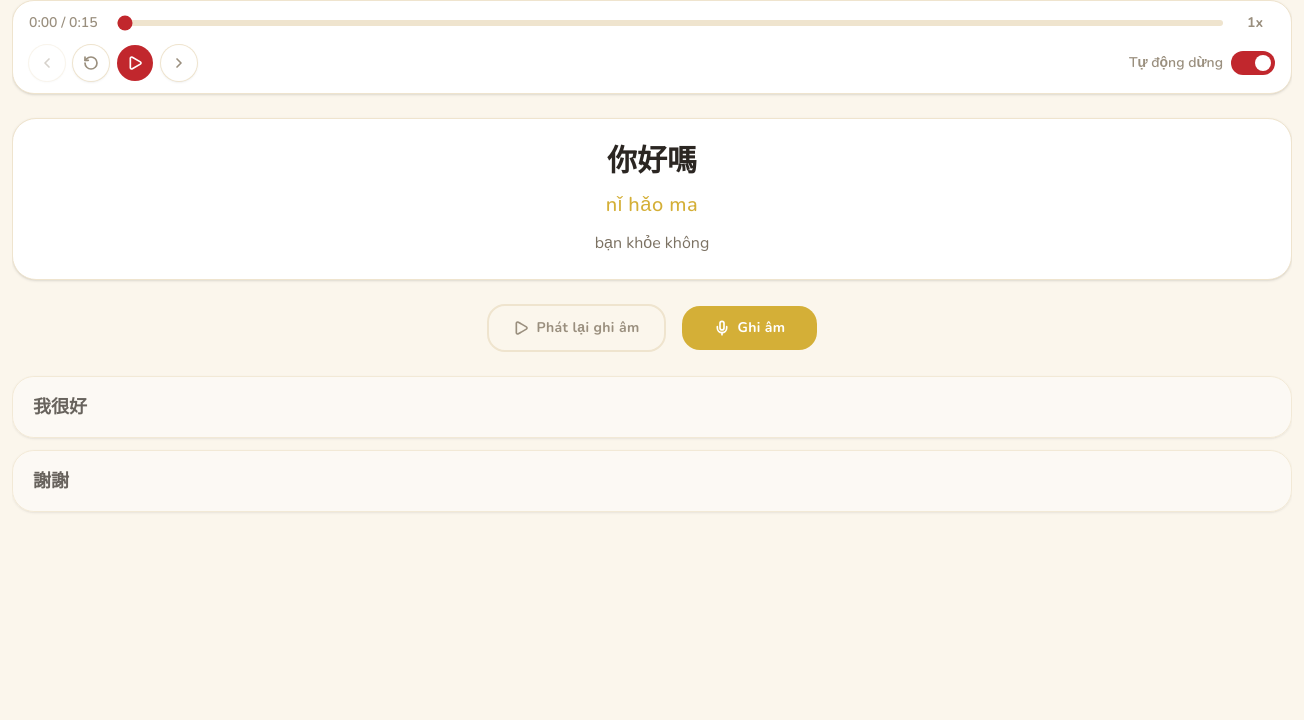
ShadowingScreen › goes back to the previous line and plays it when "Câu trước" is clicked
Step 1. Click the button named "Câu sau" → point(179, 63), box x1=161 y1=45 x2=197 y2=81
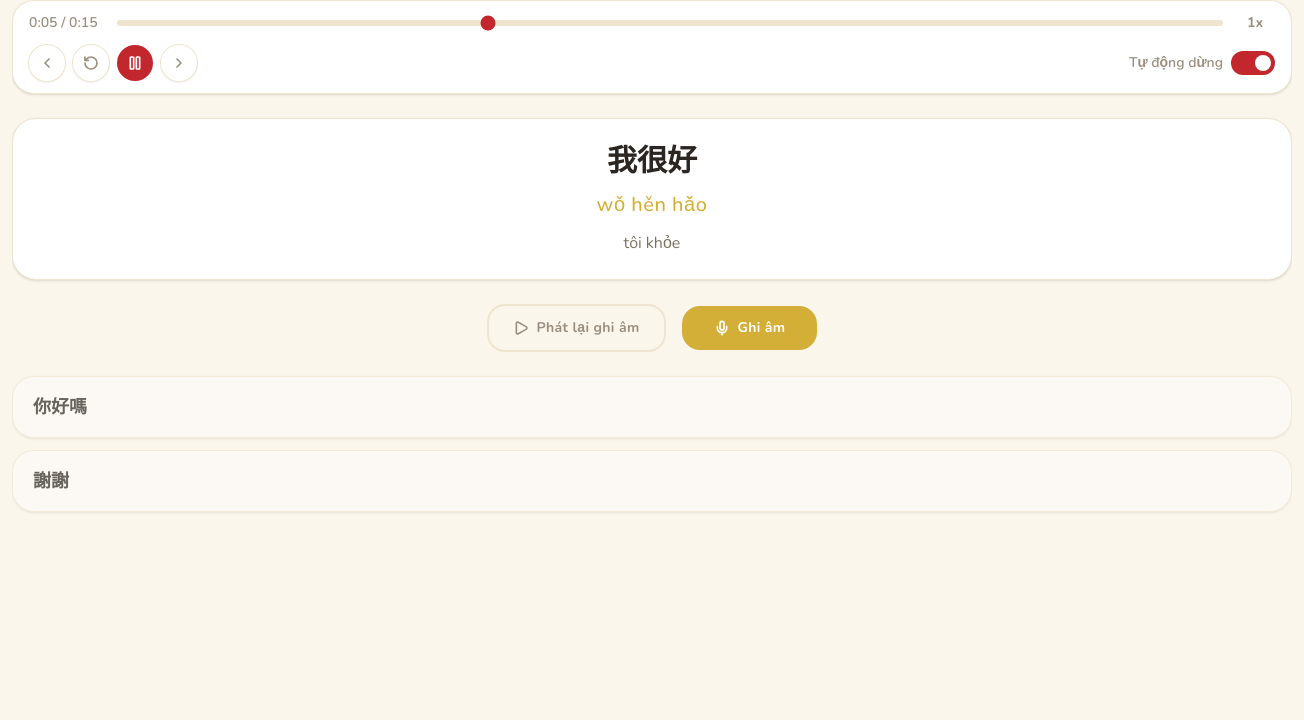
Step 2. Click the button named "Câu trước" → point(47, 63), box x1=29 y1=45 x2=65 y2=81
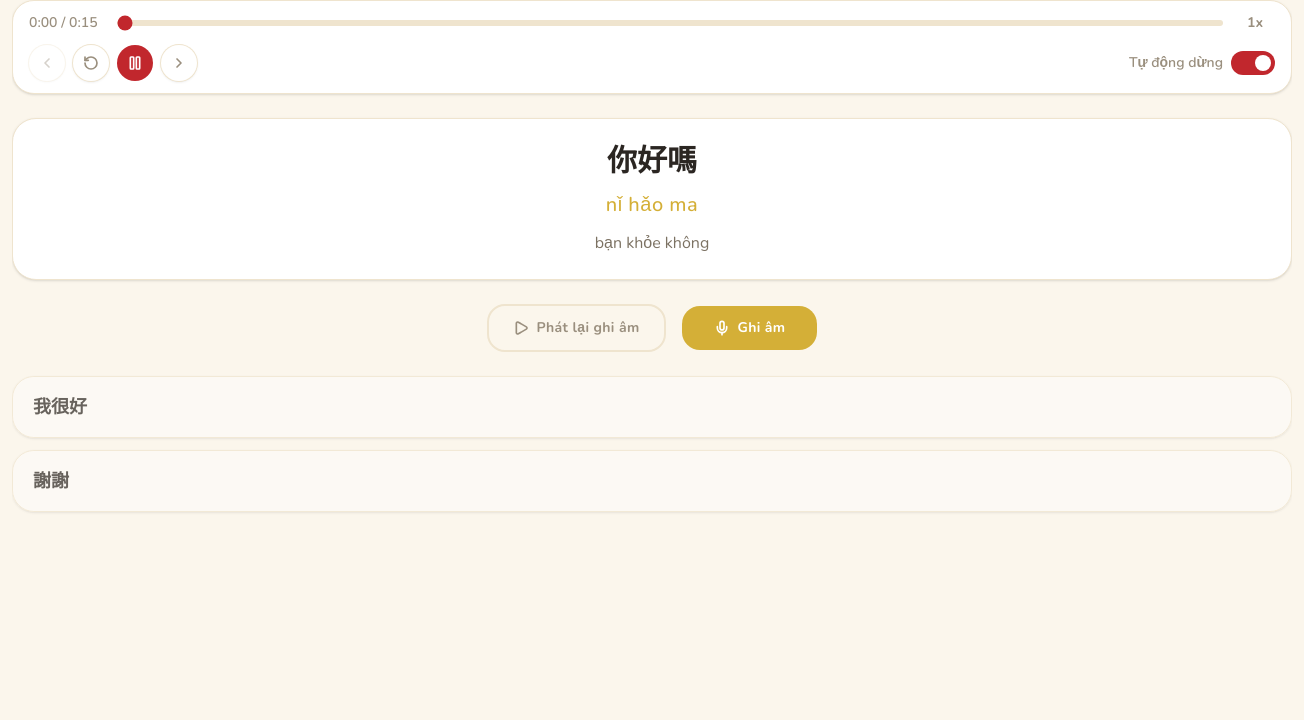
Check: the heading "你好嗎" is shown, box x1=607 y1=144 x2=697 y2=177
